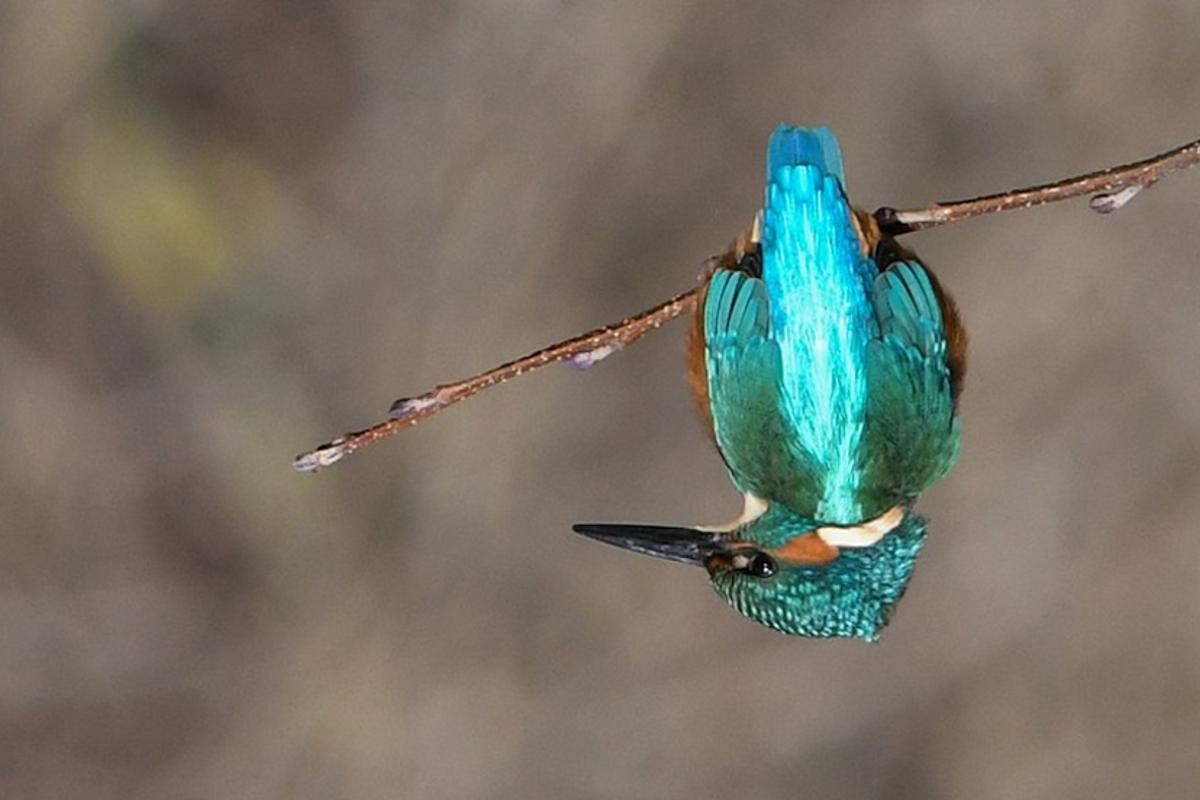kingfisher: (560, 114, 974, 670)
